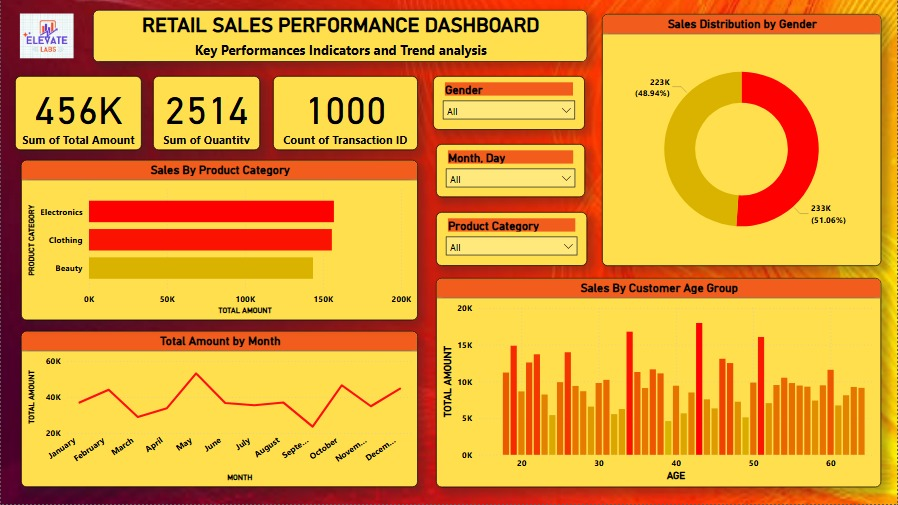

This screenshot's page, from the dashboard's own definition file:
{"tool":"powerbi","page":{"name":"Page 1","canvas":[1280,720],"ordinal":0},"visuals":[{"type":"card","fields":{"Values":["Sum(retail_sales_dataset.Total Amount)"]},"box":[20,108.6,181.4,105.7],"z":0},{"type":"lineChart","title":"Total Amount by Month","fields":{"Category":["retail_sales_dataset.Date.Variation.Date Hierarchy.Month"],"Y":["Sum(retail_sales_dataset.Total Amount)"]},"box":[28.6,472.9,567.1,222.9],"z":1000},{"type":"card","fields":{"Values":["Sum(retail_sales_dataset.Quantity)"]},"box":[227.1,108.6,152.9,105.7],"z":2000},{"type":"card","fields":{"Values":["CountNonNull(retail_sales_dataset.Transaction ID)"]},"box":[407.1,108.6,188.6,105.7],"z":3000},{"type":"clusteredBarChart","title":"Sales By Product Category","fields":{"Y":["Sum(retail_sales_dataset.Total Amount)"],"Category":["retail_sales_dataset.Product Category"]},"box":[28.6,228.6,567.1,228.6],"z":4000},{"type":"donutChart","title":"Sales Distribution by Gender","fields":{"Y":["Sum(retail_sales_dataset.Total Amount)"],"Category":["retail_sales_dataset.Gender"]},"box":[858.6,20,398.6,360],"z":5000},{"type":"clusteredColumnChart","title":"Sales By Customer Age Group","fields":{"Y":["Sum(retail_sales_dataset.Total Amount)"],"Category":["retail_sales_dataset.Age"]},"box":[621.4,397.1,635.7,298.6],"z":6000},{"type":"slicer","fields":{"Values":["retail_sales_dataset.Product Category"]},"box":[621.4,302.9,215.7,77.1],"z":7000},{"type":"slicer","fields":{"Values":["retail_sales_dataset.Gender"]},"box":[617.1,108.6,217.1,77.1],"z":8000},{"type":"slicer","fields":{"Values":["retail_sales_dataset.Date.Variation.Date Hierarchy.Month","retail_sales_dataset.Date.Variation.Date Hierarchy.Day"]},"box":[621.4,205.7,212.9,75.7],"z":9000},{"type":"textbox","title":"RETAIL SALES PERFORMANCE DASHBOARD","box":[131.4,14.3,705.7,74.3],"z":9001},{"type":"image","box":[20,14.3,91.4,74.3],"z":9002}]}

Visuals, with their boxes in screenshot pixels (x1, y1, x2, y2), scaled from the page's 1280x720 canvas onto the 898x505 screenshot:
card - Sum(retail_sales_dataset.Total Amount): [x1=14, y1=76, x2=141, y2=150]
"Total Amount by Month" lineChart: [x1=20, y1=332, x2=418, y2=488]
card - Sum(retail_sales_dataset.Quantity): [x1=159, y1=76, x2=267, y2=150]
card - CountNonNull(retail_sales_dataset.Transaction ID): [x1=286, y1=76, x2=418, y2=150]
"Sales By Product Category" clusteredBarChart: [x1=20, y1=160, x2=418, y2=321]
"Sales Distribution by Gender" donutChart: [x1=602, y1=14, x2=882, y2=267]
"Sales By Customer Age Group" clusteredColumnChart: [x1=436, y1=279, x2=882, y2=488]
slicer - retail_sales_dataset.Product Category: [x1=436, y1=212, x2=587, y2=267]
slicer - retail_sales_dataset.Gender: [x1=433, y1=76, x2=585, y2=130]
slicer - retail_sales_dataset.Date.Variation.Date Hierarchy.Month x retail_sales_dataset.Date.Variation.Date Hierarchy.Day: [x1=436, y1=144, x2=585, y2=197]
"RETAIL SALES PERFORMANCE DASHBOARD" textbox: [x1=92, y1=10, x2=587, y2=62]
image: [x1=14, y1=10, x2=78, y2=62]
